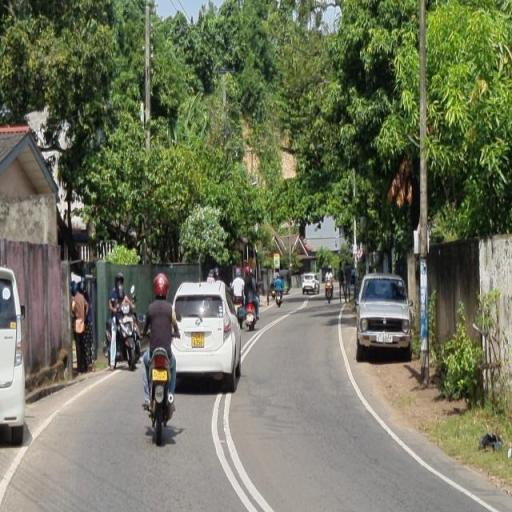double_white_line: (335, 311, 498, 512)
